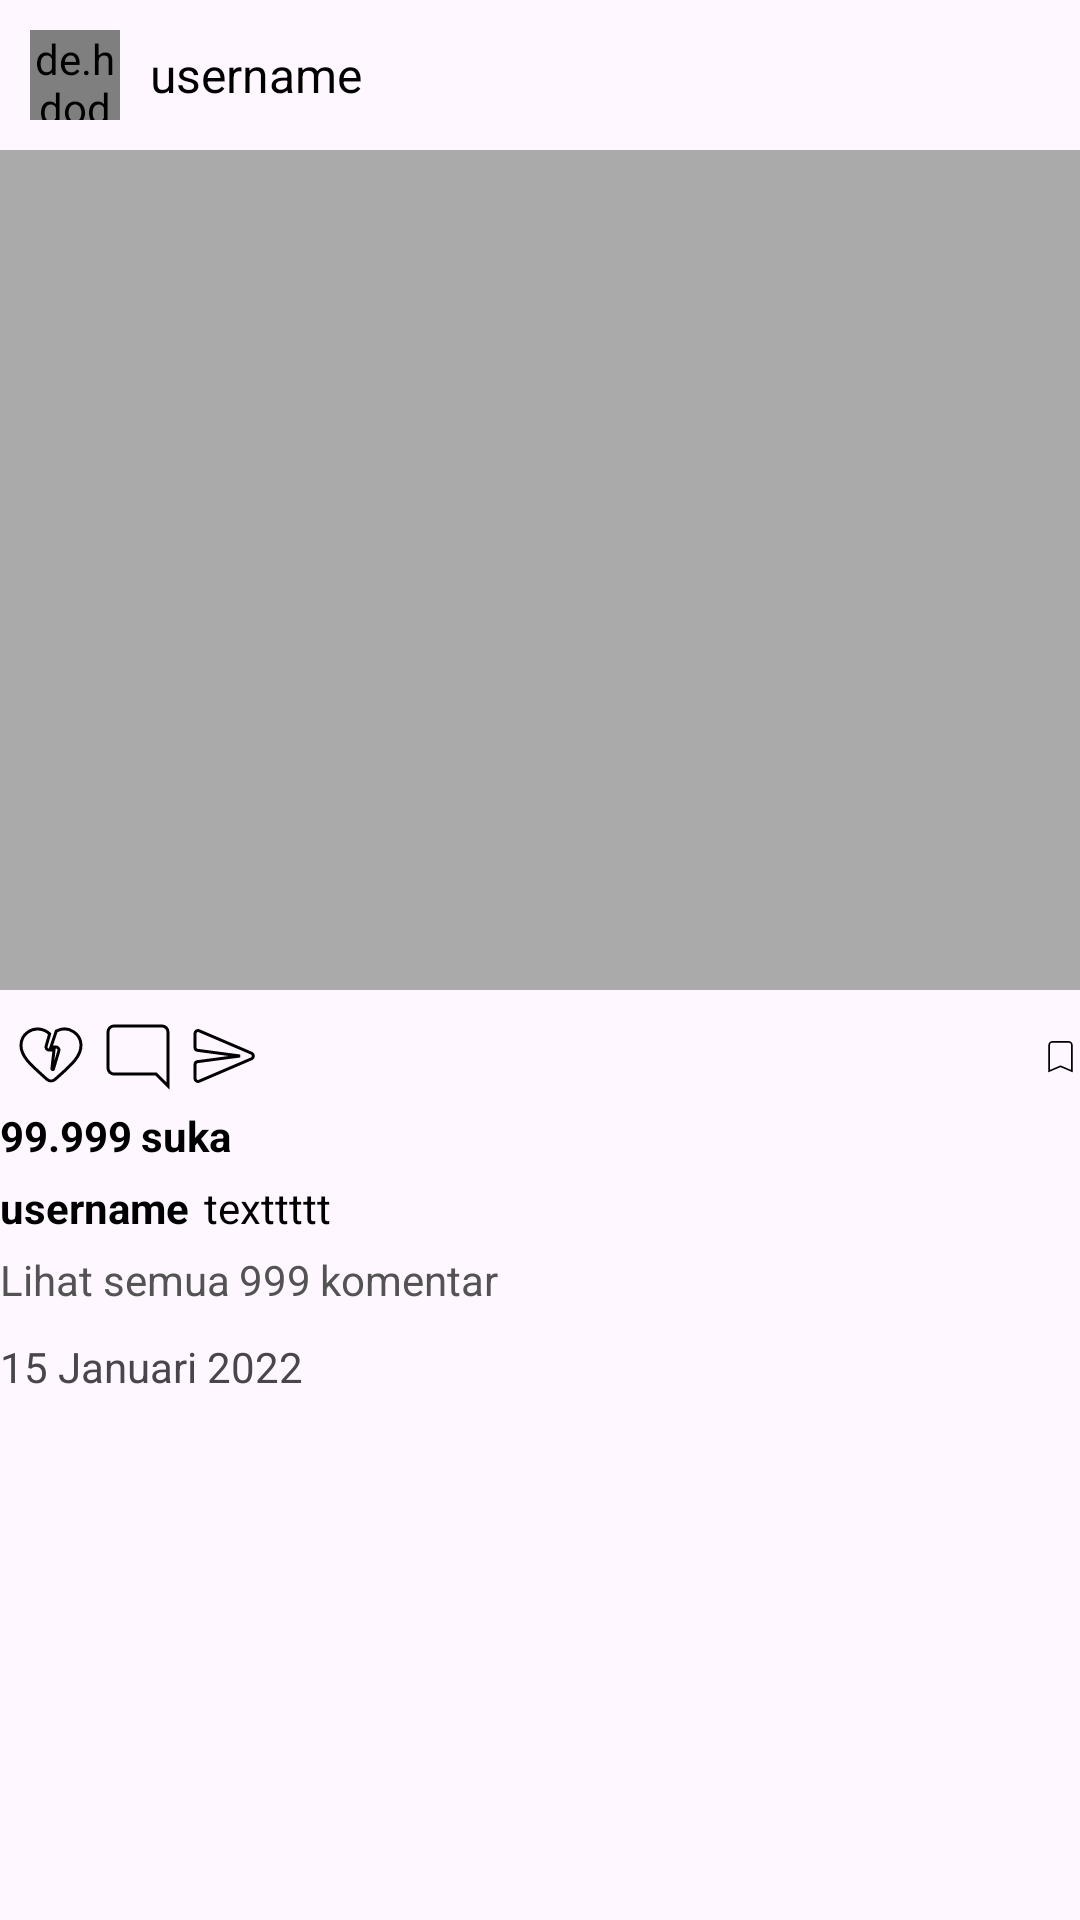

Screen size 1080×1920. Icon name, then its box in pixels as bbox=(x1, y1, x2, y2):
post bookmark: bbox=(1048, 1041, 1073, 1073)
post comment: bbox=(106, 1024, 170, 1090)
post send: bbox=(193, 1029, 255, 1083)
